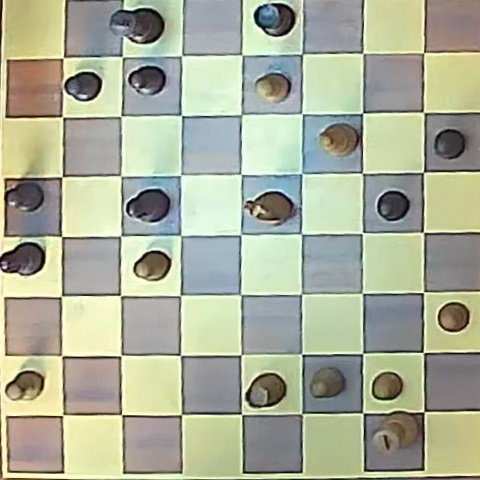black-bishop: (125, 188, 170, 224), (0, 242, 45, 276)
black-king: (110, 7, 163, 44)
black-pawn: (127, 65, 166, 95), (6, 182, 45, 212), (64, 71, 102, 101), (376, 190, 409, 221), (434, 129, 466, 160)
black-rook: (254, 2, 294, 37)
white-bishop: (319, 123, 358, 156)
white-king: (372, 413, 419, 454)
white-knight: (244, 191, 293, 225)
white-pawn: (5, 371, 45, 401), (133, 251, 171, 282), (310, 367, 344, 399), (255, 72, 290, 103), (437, 302, 469, 332), (372, 371, 403, 400)
white-rook: (246, 373, 286, 408)
